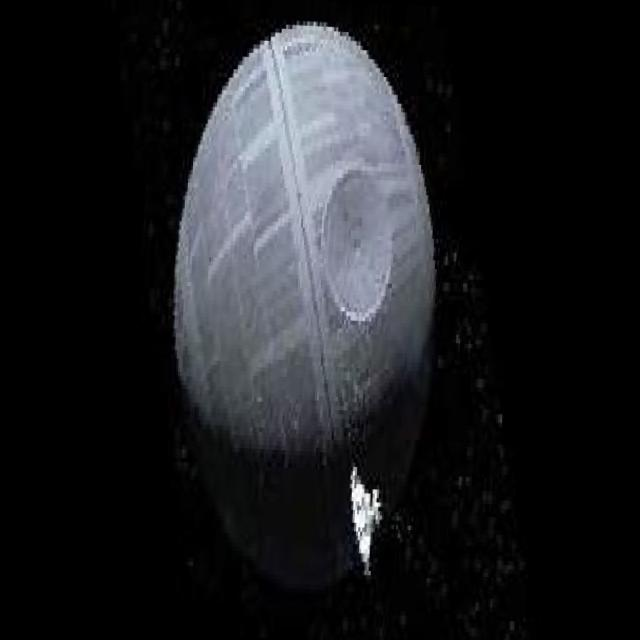Death Star: (153, 14, 455, 598)
